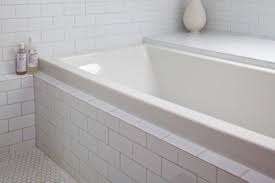bathub: (36, 39, 275, 183)
